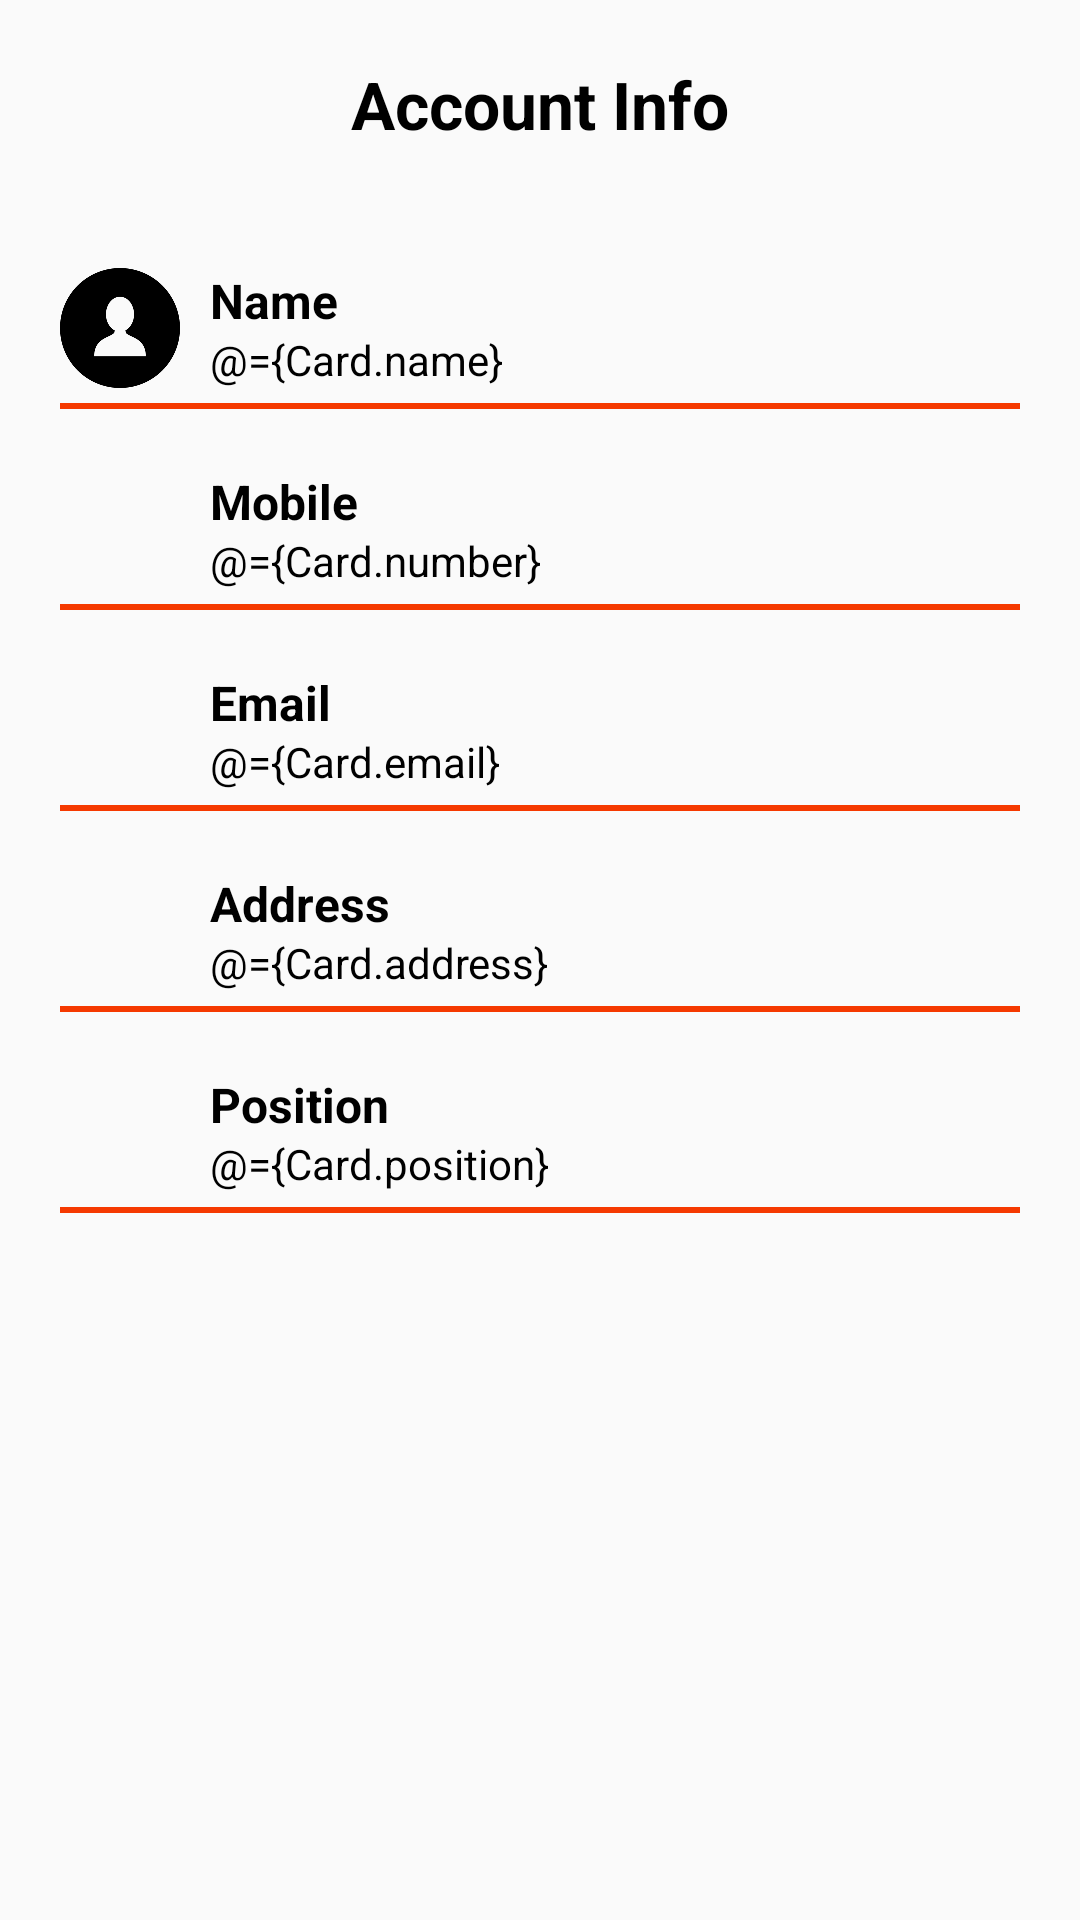

Named icons in this screenshot (1080px×1920px) and their centers, (x=x, y=y):
user: (x=120, y=328)
